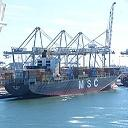Ships: (8, 57, 121, 97)
